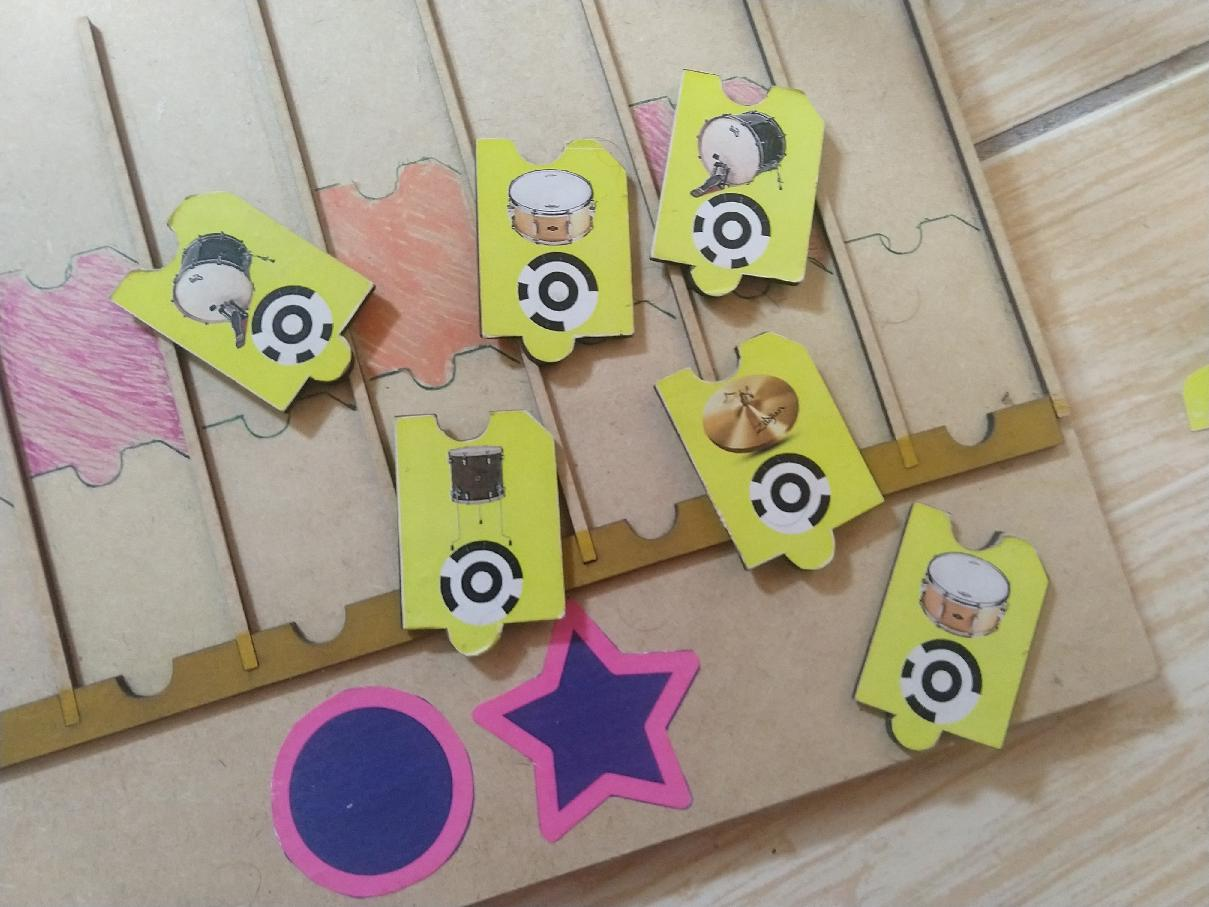bumbo: (111, 192, 371, 413), (649, 66, 827, 303)
